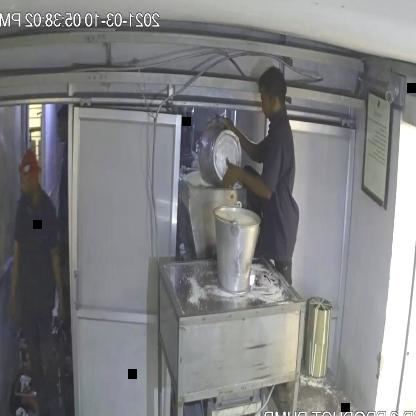no_glove: (212, 153, 284, 216), (221, 108, 264, 166), (50, 232, 70, 335), (8, 226, 28, 324)
